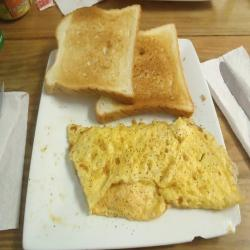bread: (37, 2, 203, 126)
omelette: (61, 120, 246, 229)
